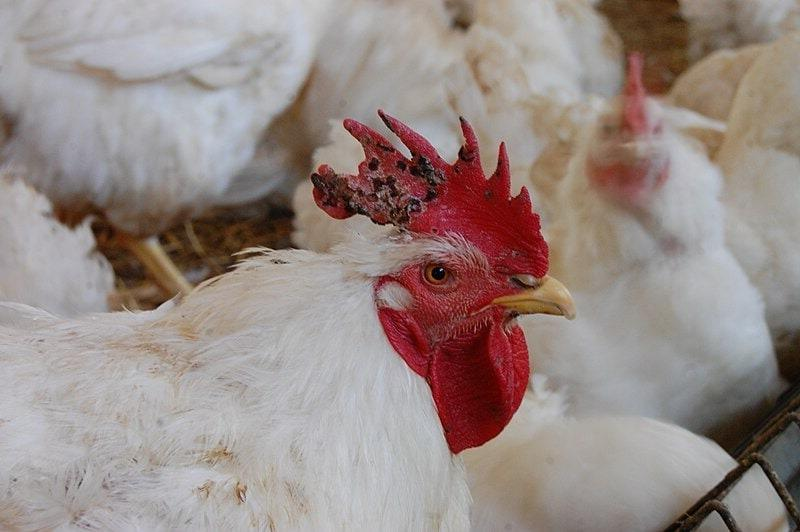AbNormal: (314, 106, 549, 272)
